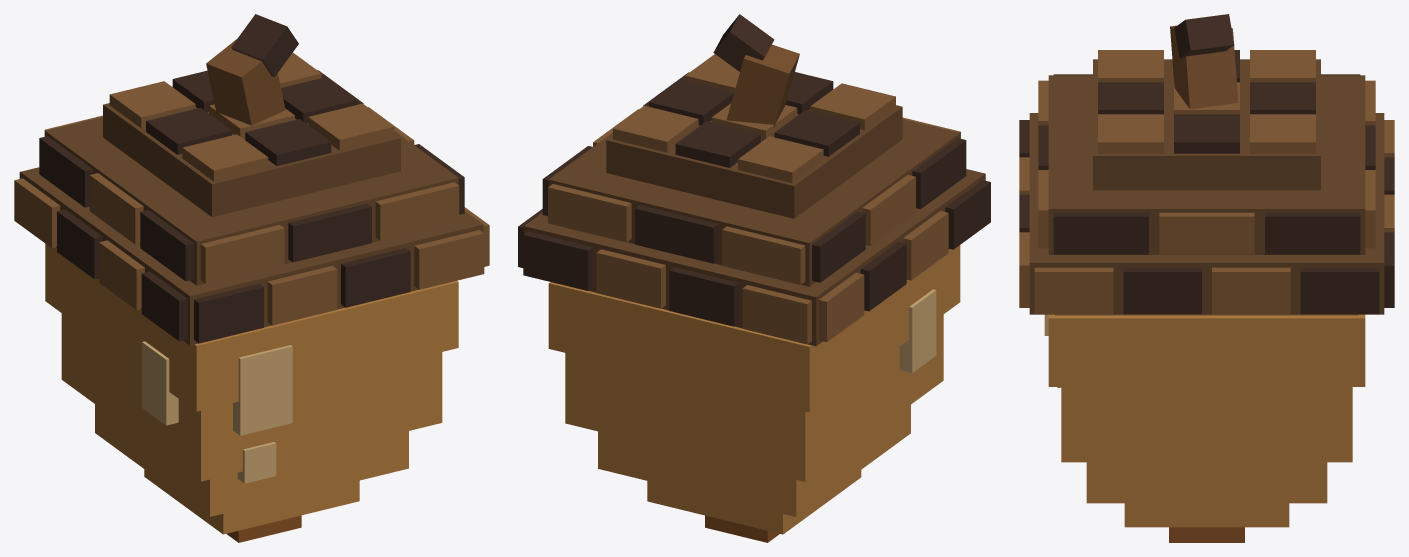
The model's file is acorn.glb.
The picture shows the model from 3 angles, left to right: view 1: azimuth 30°, elevation 25°; view 2: azimuth 150°, elevation 25°; view 3: azimuth 270°, elevation 25°; orthographic projection. The views are drawn at different scales.
Parts seen in each view (by area): view 1: cap, nut; view 2: cap, nut; view 3: cap, nut.
Boxes of the visible parts, x1=… form: cap: x1=14, y1=14, x2=489, y2=345; nut: x1=45, y1=244, x2=458, y2=542; cap: x1=518, y1=14, x2=990, y2=346; nut: x1=548, y1=245, x2=960, y2=542; cap: x1=1019, y1=14, x2=1394, y2=314; nut: x1=1044, y1=314, x2=1365, y2=542.
Size of the model in its own units: 0.296 by 0.4528 by 0.296.
